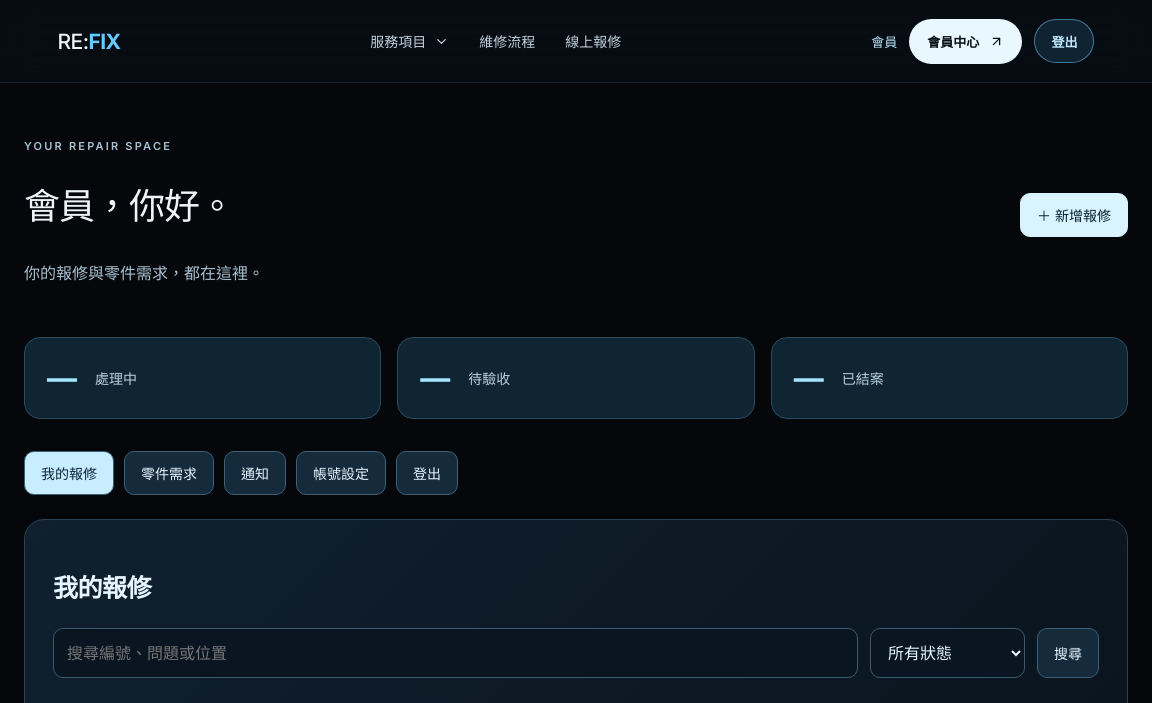
it: summary shortcuts select matching lists and clear an unrelated search
Expected: the heading "我的報修" is shown, [53,573,151,603]
Type "找不到" into the field named "搜尋我的工單". click: (456, 653)
box: [53,628,858,678]
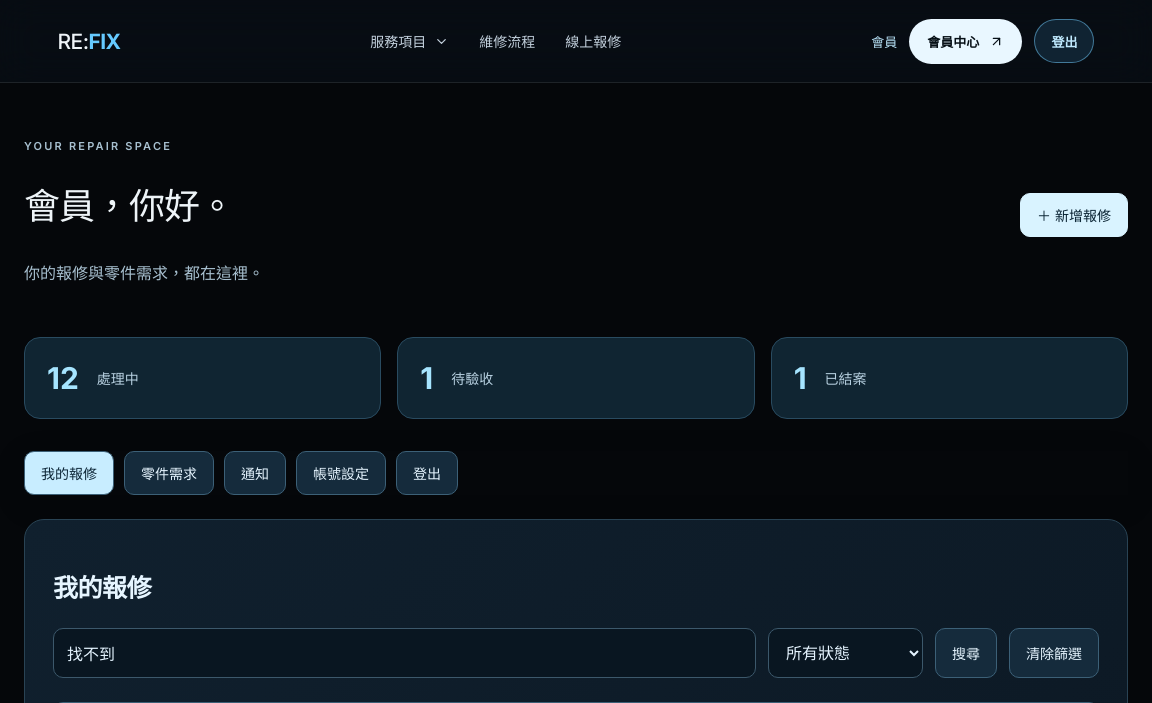
Click the button "搜尋". click: (966, 653)
box: [935,628,997,678]
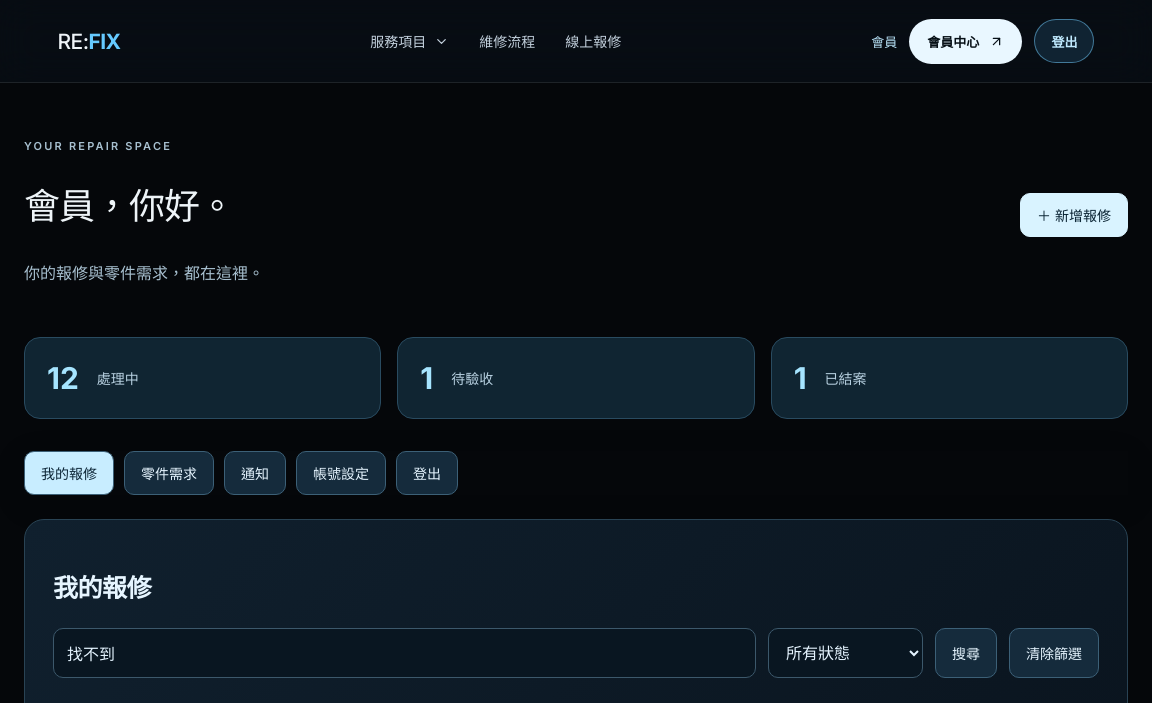
Click the button "1 待驗收". click: (472, 378)
box: [397,336,755,418]
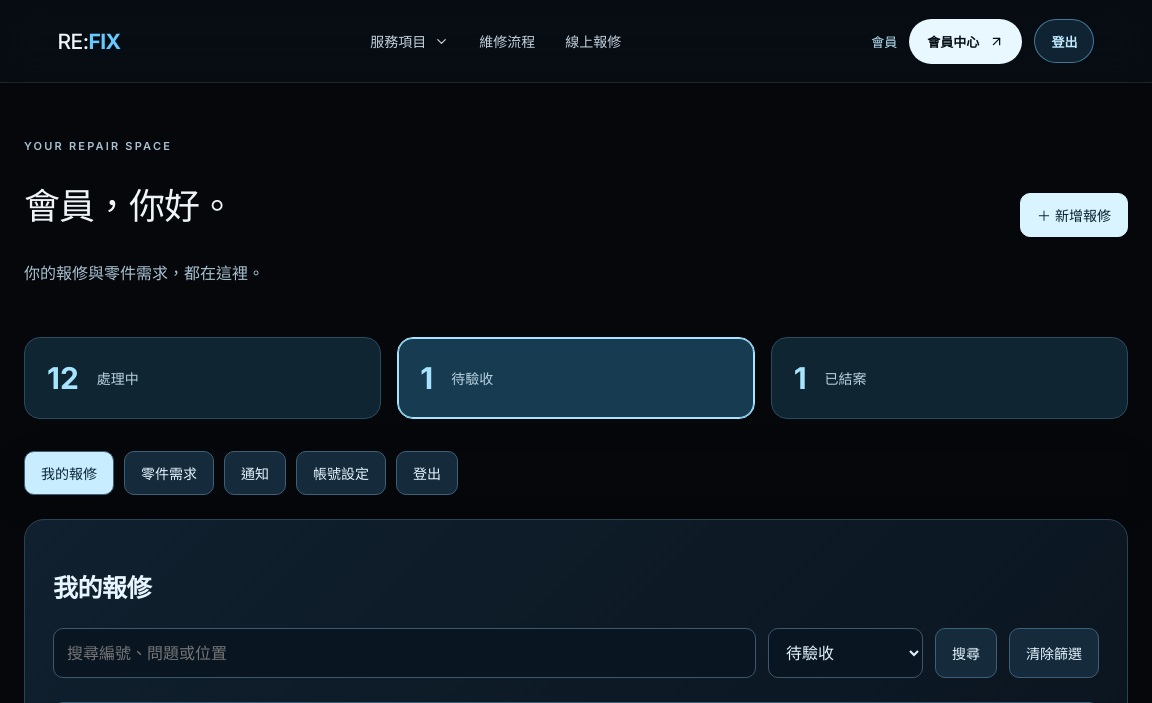
Expected: the dropdown named "工單狀態" shows "待驗收", [768,628,923,678]
Expected: the field named "搜尋我的工單" is empty, [53,628,756,678]
Click the button "1 已結案". click: (846, 378)
box: [771,336,1128,418]
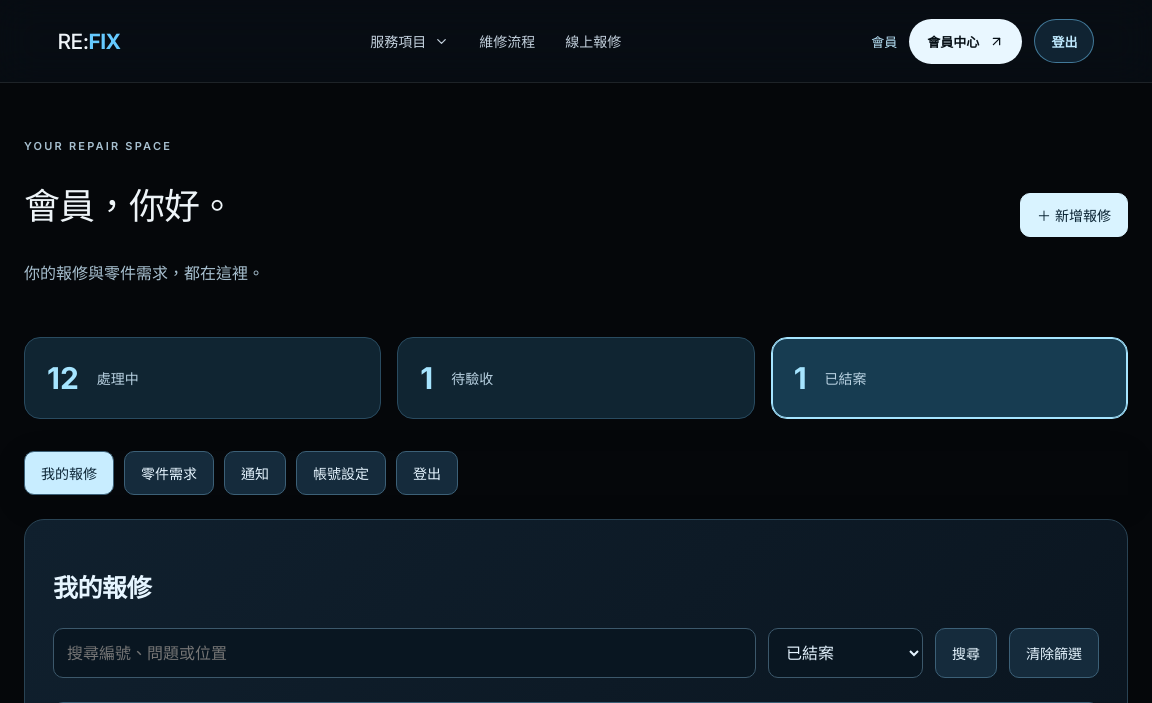
Click the button "12 處理中". click: (63, 378)
box: [24,336,381,418]
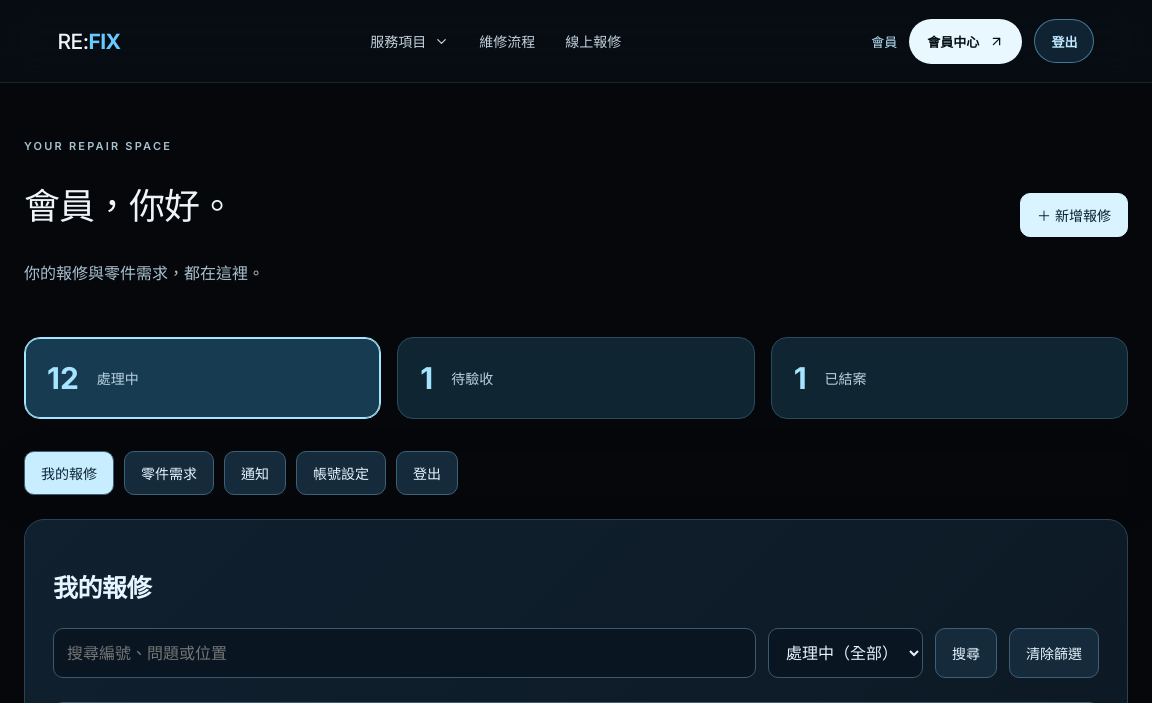
Expected: the dropdown named "工單狀態" shows "處理中（全部）", [768,628,923,678]
Click the button "清除篩選". click: (1054, 653)
box: [1009,628,1099,678]
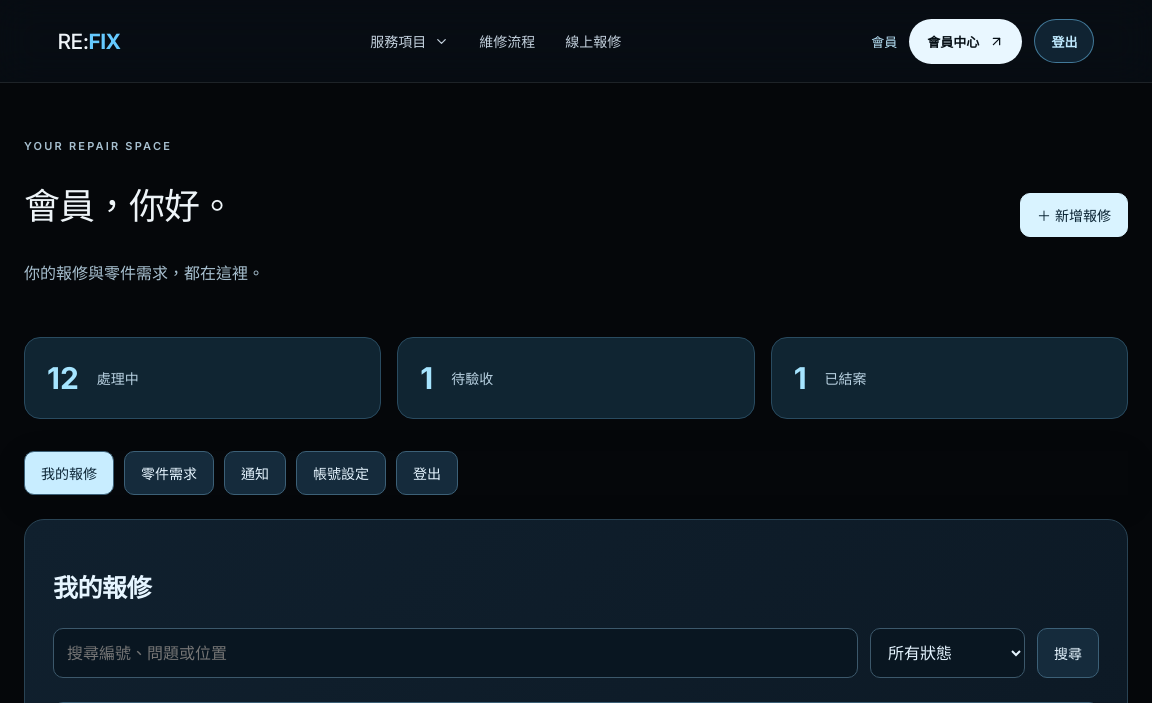
Expected: the dropdown named "工單狀態" shows "所有狀態", [870,628,1025,678]
